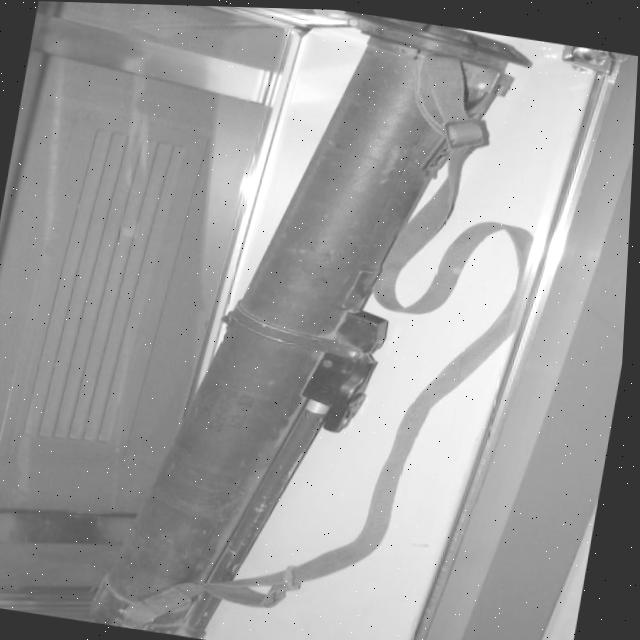rocket: (87, 3, 530, 640)
